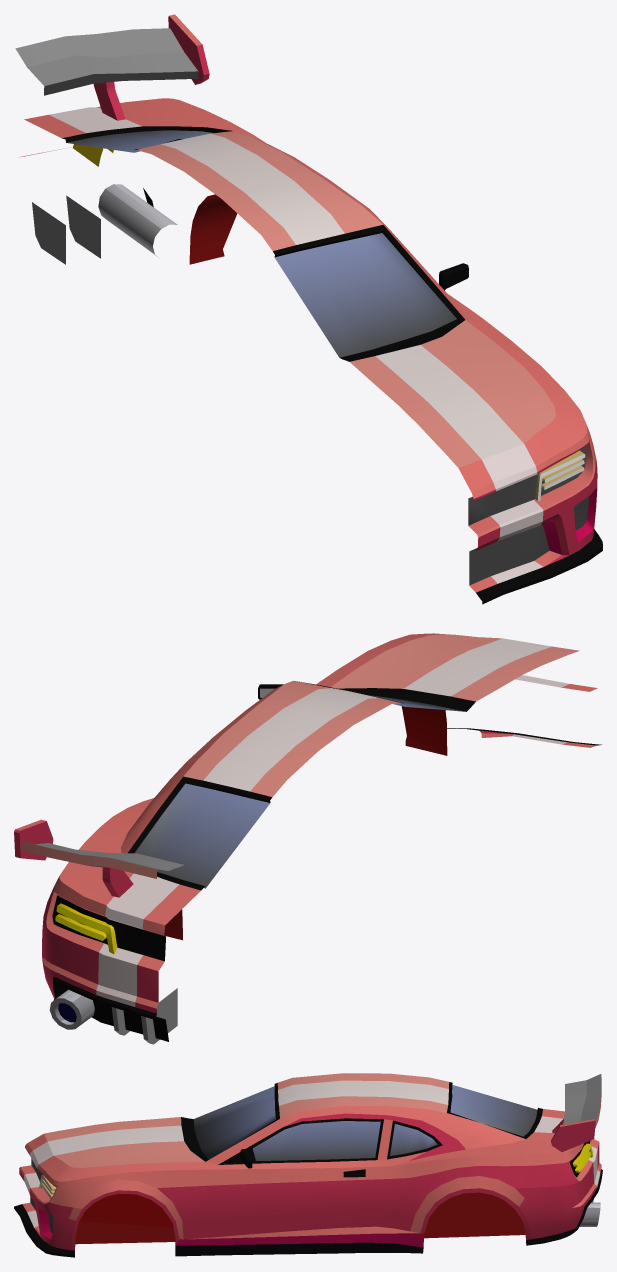
Rendered from Car.glb.
3 views of the same model, one above another, from view 1: azimuth 30°, elevation 25°; view 2: azimuth 150°, elevation 25°; view 3: azimuth 270°, elevation 25° (orthographic). The views are drawn at different scales.
Visible parts, largest first — view 1: Car; view 2: Car; view 3: Car.
Boxes of the visible parts, x1,y1,x2,y2 form: Car: (15,14,602,604); Car: (14,633,601,1044); Car: (14,1073,602,1257).
Size of the model in its own units: 0.2528 by 0.3017 by 1.18.
